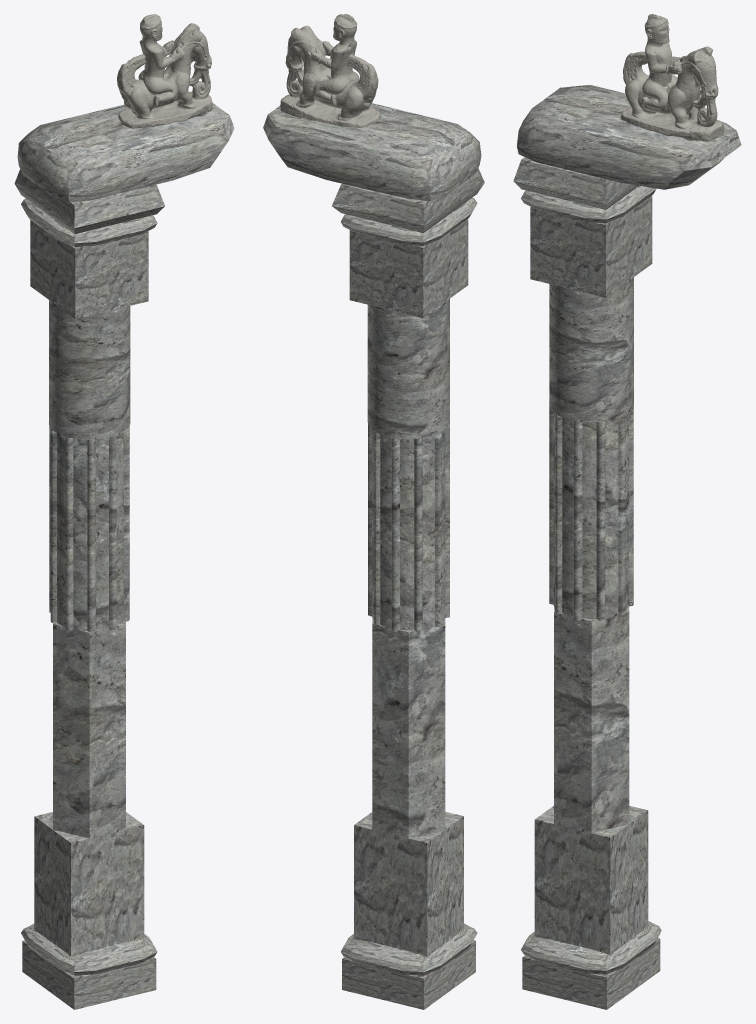
File: final_indian_pillar.glb
3 views of the same model, side by side, from view 1: azimuth 30°, elevation 25°; view 2: azimuth 150°, elevation 25°; view 3: azimuth 330°, elevation 25° (orthographic). The views are drawn at different scales.
Visible parts, largest first — view 1: Mesh_5, Mesh_2.001, Mesh_4, Mesh_3.001, Mesh_1.001; view 2: Mesh_5, Mesh_1.001, Mesh_3.001, Mesh_2.001, Mesh_4; view 3: Mesh_5, Mesh_2.001, Mesh_4, Mesh_3.001, Mesh_1.001.
Boxes of the visible parts, <box> form: Mesh_5: <box>14,103,234,1009</box>; Mesh_2.001: <box>118,14,212,127</box>; Mesh_4: <box>117,14,211,122</box>; Mesh_3.001: <box>120,24,212,128</box>; Mesh_1.001: <box>117,23,210,128</box>; Mesh_5: <box>263,103,484,1009</box>; Mesh_1.001: <box>280,26,380,127</box>; Mesh_3.001: <box>280,28,380,120</box>; Mesh_2.001: <box>288,14,379,127</box>; Mesh_4: <box>286,16,378,127</box>; Mesh_5: <box>513,85,741,1009</box>; Mesh_2.001: <box>621,14,712,141</box>; Mesh_4: <box>623,14,723,141</box>; Mesh_3.001: <box>621,38,723,141</box>; Mesh_1.001: <box>620,42,723,136</box>.
Size of the model in its own units: 0.749 by 3.69 by 0.4397.
1 material, 1 textured.
